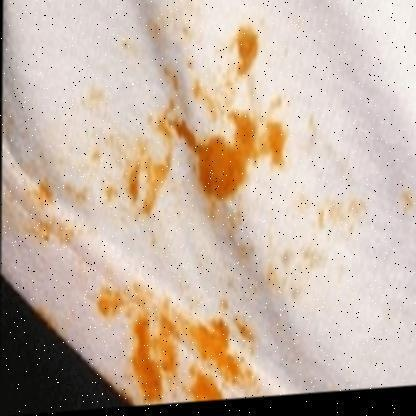kimchi: (20, 18, 323, 251), (95, 280, 241, 339), (131, 339, 240, 407), (214, 251, 335, 308), (326, 177, 416, 237), (242, 331, 273, 393)
